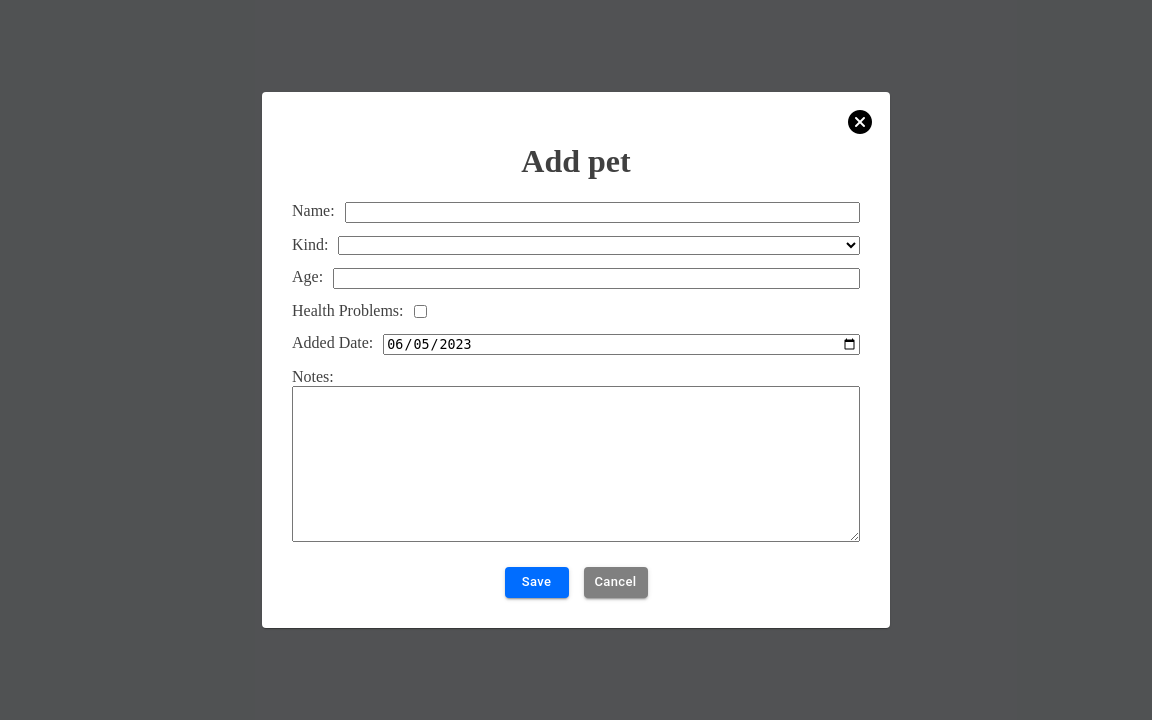
add mode › error indicator is shown when the add request fails
The image size is (1152, 720).
Expected: the heading "Add pet" is shown, [521,144,631,180]
Expected: the button "Save" is enabled, [504,567,568,598]
Step 1. Type "test123" into the field labelled "Name:" → (602,212), box [345,202,860,223]
Step 2. Select "Cat" in the dropdown labelled "Kind:" → (599,245), box [338,236,860,255]
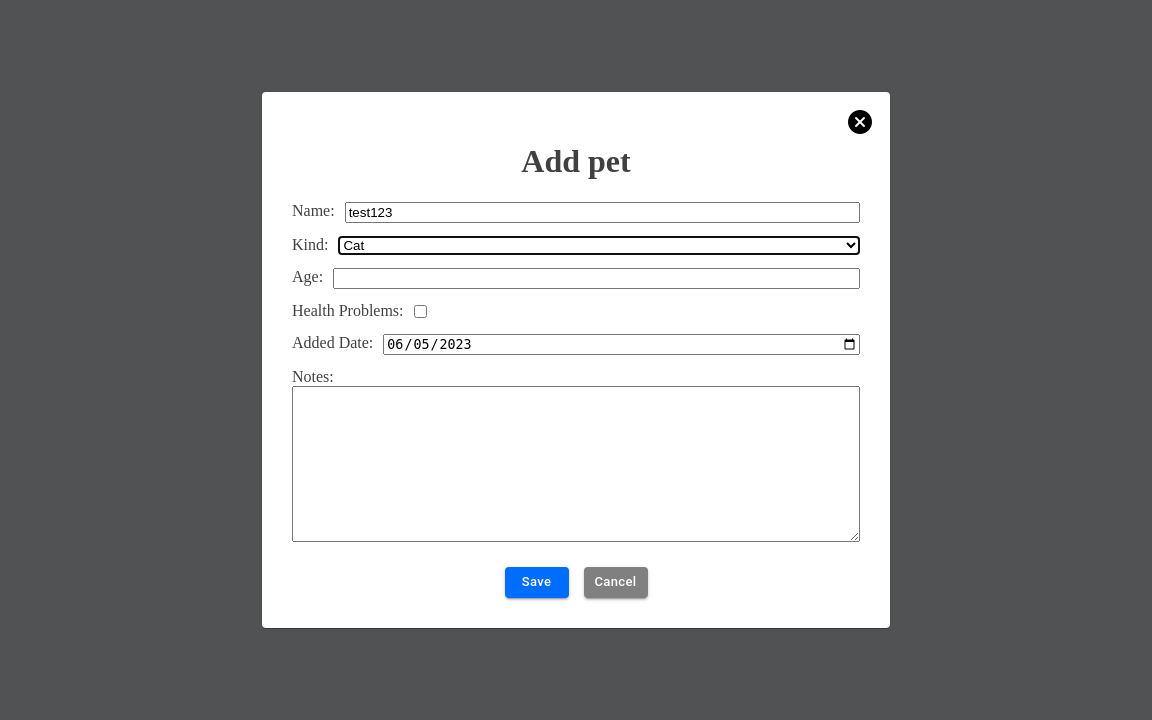
Step 3. Type "2" into the number field labelled "Age:" → (597,278), box [333,268,860,289]
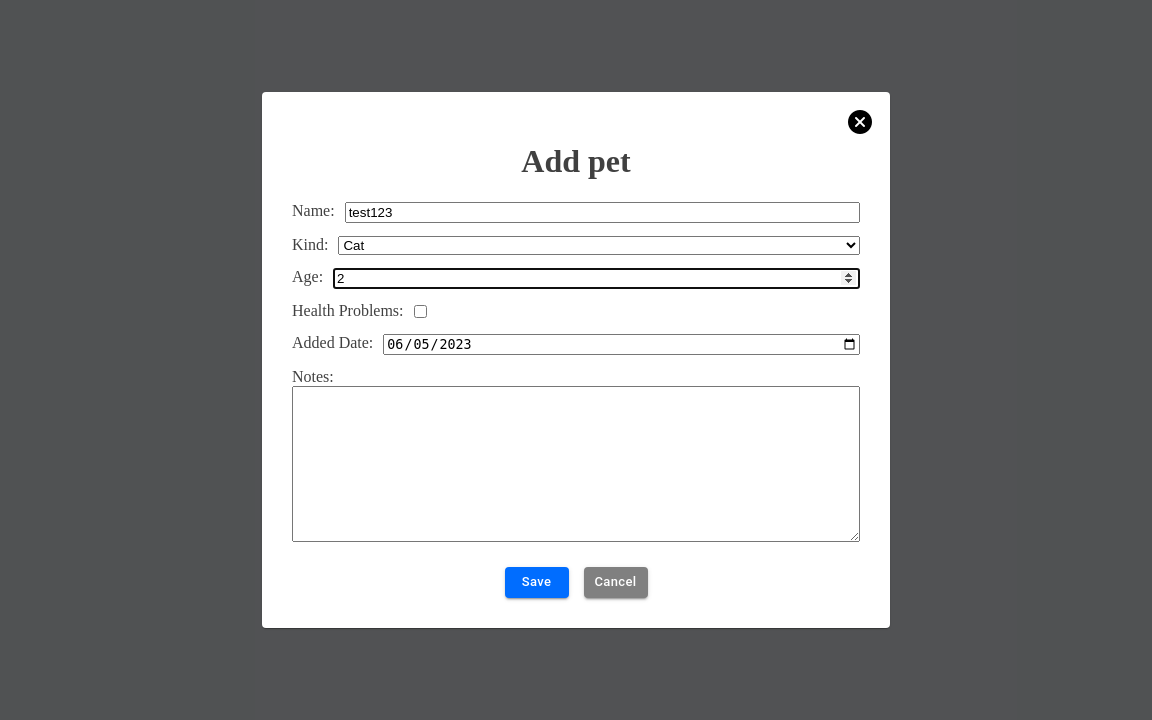
Step 4. Click the checkbox labelled "Health Problems:" → (420,311), box [414,305,426,318]
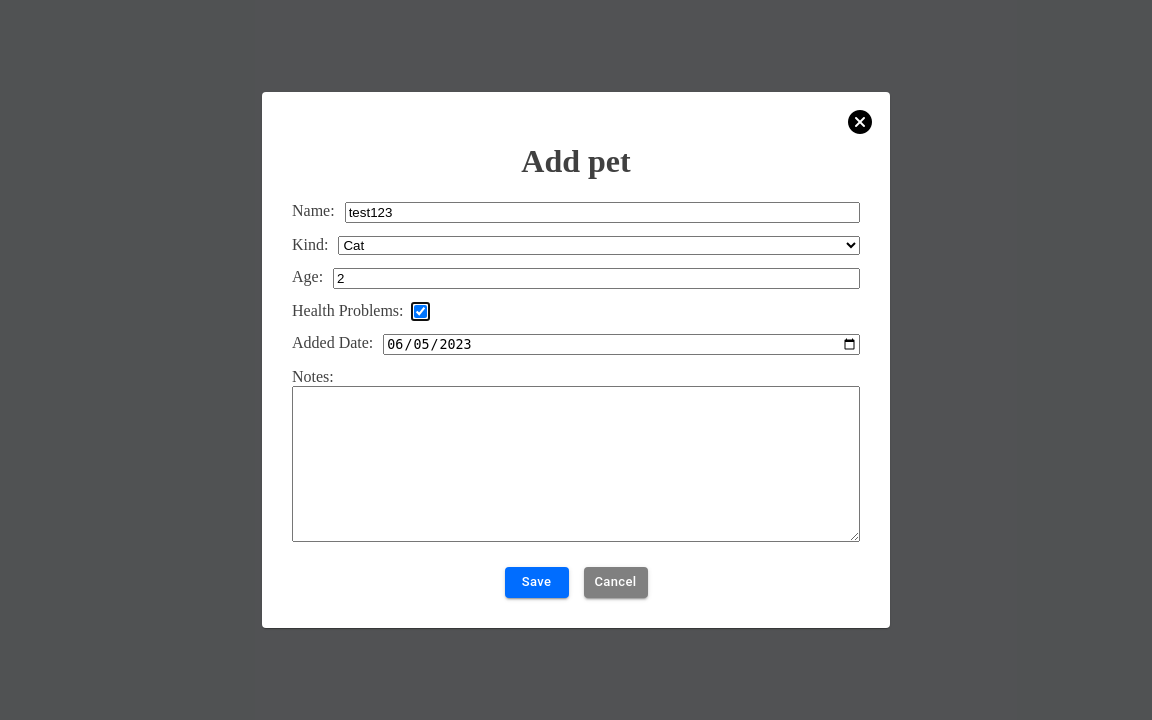
Step 5. Type "2023-10-10" into the date field labelled "Added Date:" → (622,345), box [383,334,860,355]
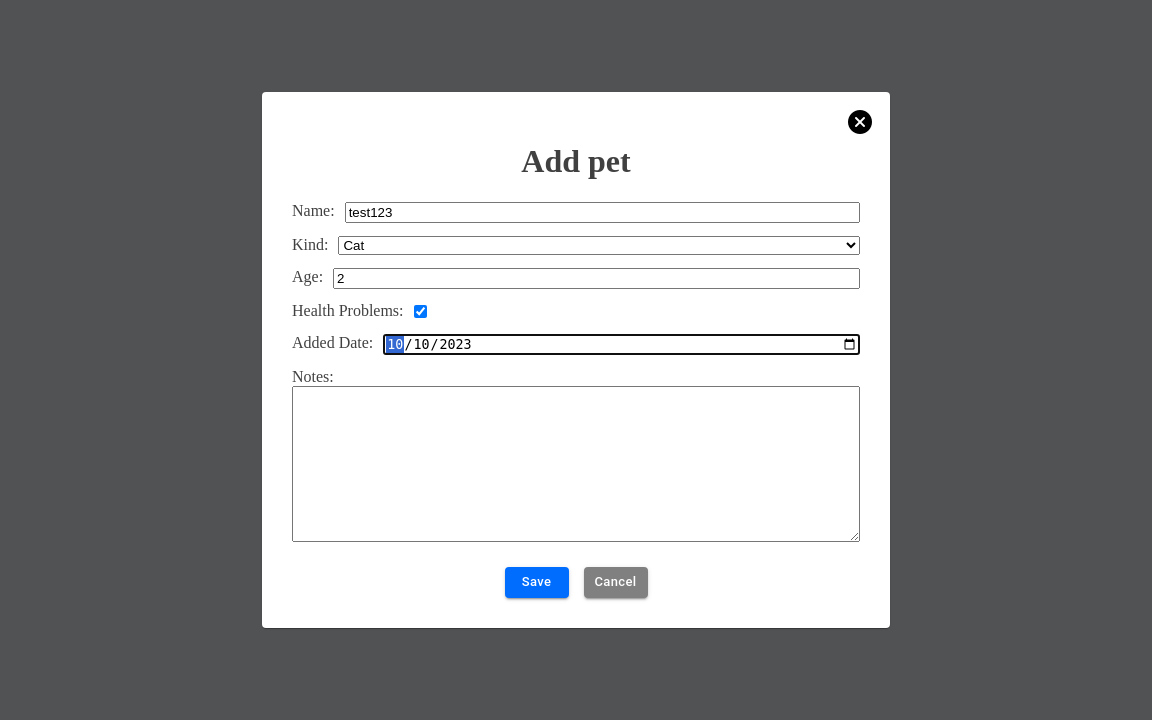
Step 6. Type "Notes 123" into the text box labelled "Notes:" → (576,464), box [292,386,860,542]
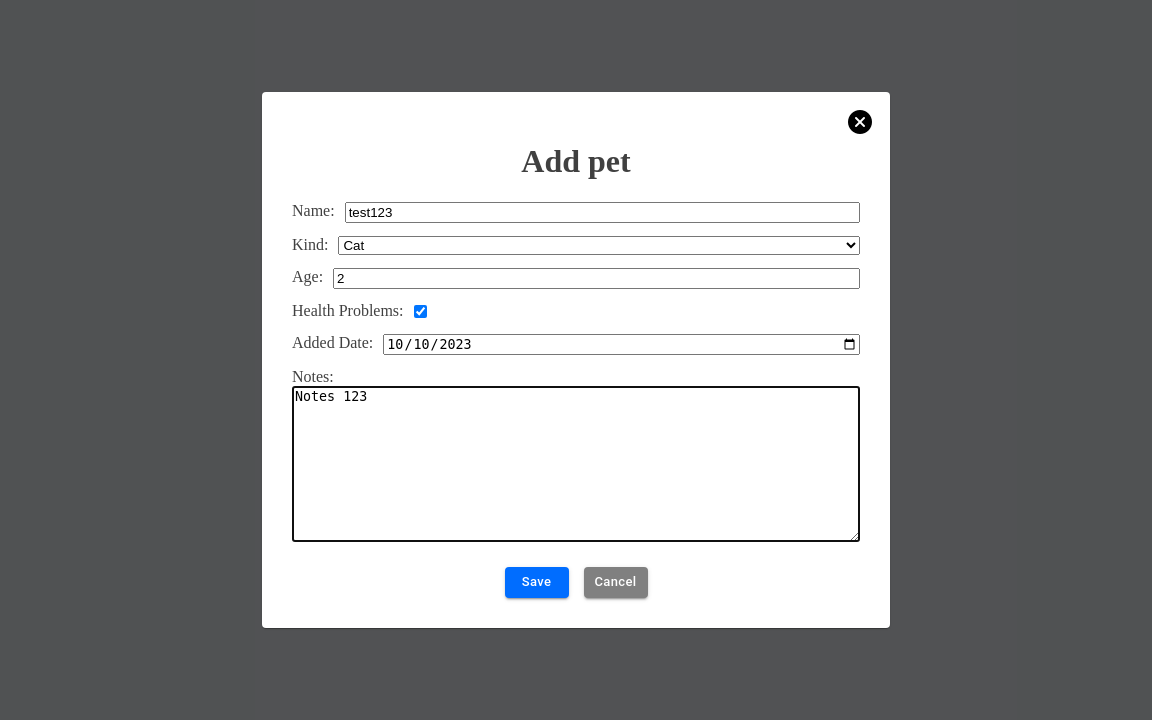
Step 7. Click the button "Save" → (536,583), box [504,567,568,598]
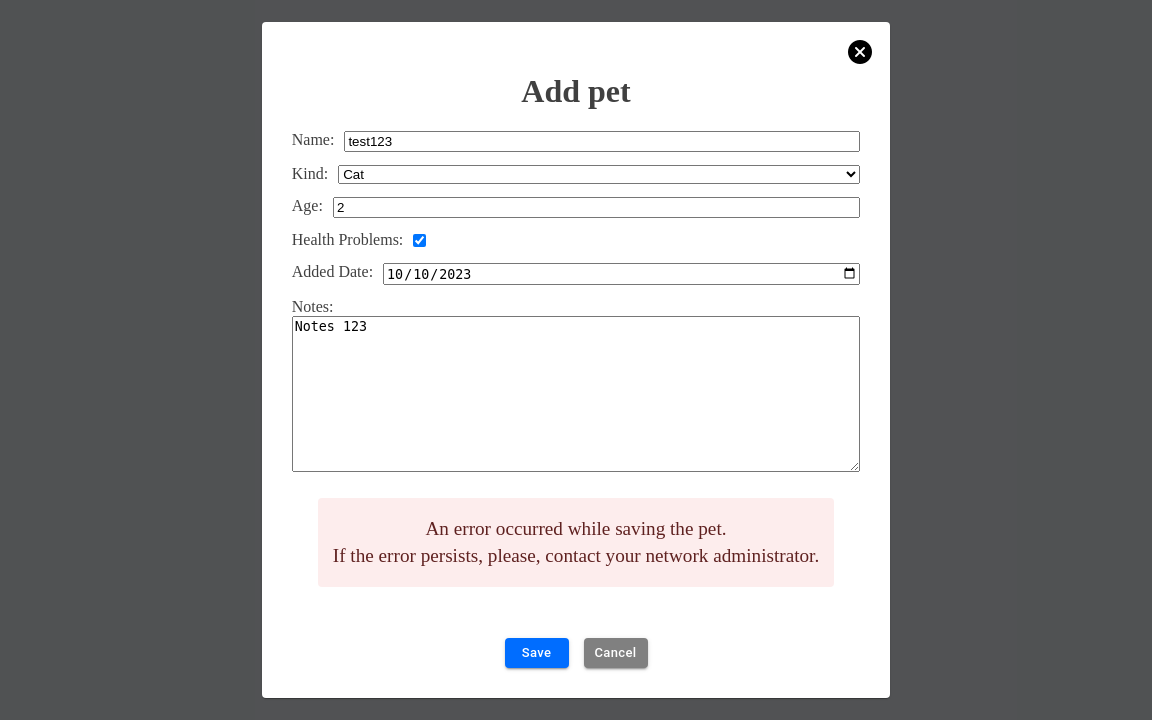
Now the element with test id "error-indicator" is shown, box [292,472,860,613]
